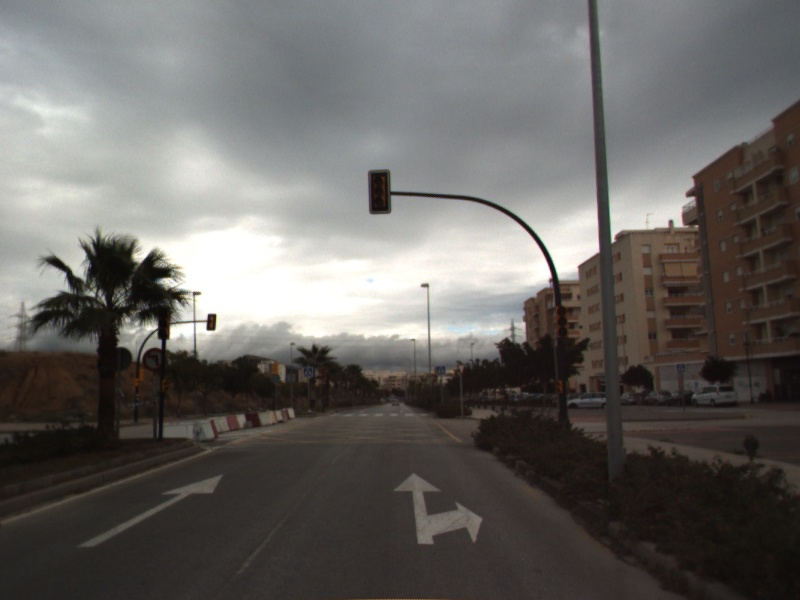STRAIGHT: (75, 472, 225, 549)
STRAIGHT_RIGHT: (391, 470, 485, 546)
